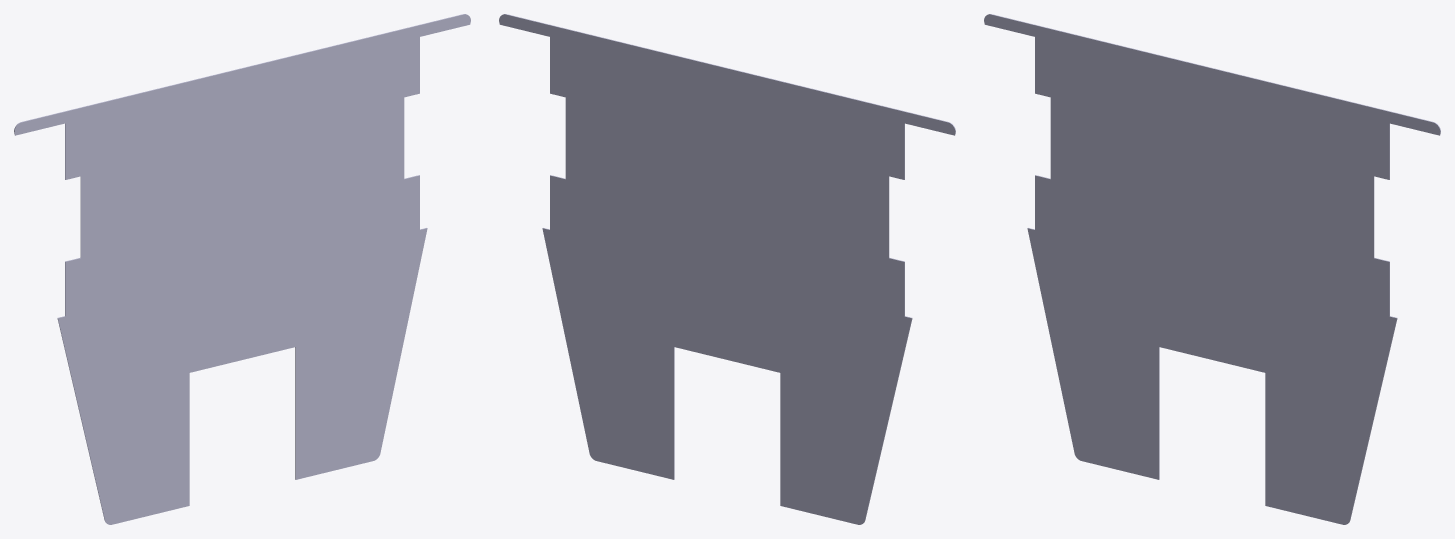
3 renders of one model, left to right at view 1: azimuth 30°, elevation 25°; view 2: azimuth 150°, elevation 25°; view 3: azimuth 330°, elevation 25°, orthographic.
Parts seen in each view (by area): view 1: node0; view 2: node0; view 3: node0.
Boxes of the visible parts, left/top/right/bottom form: node0: left=14, top=14, right=470, bottom=524; node0: left=499, top=14, right=955, bottom=524; node0: left=984, top=14, right=1440, bottom=524.
Size of the model in its own units: 0.4376 by 0.001 by 0.389.
